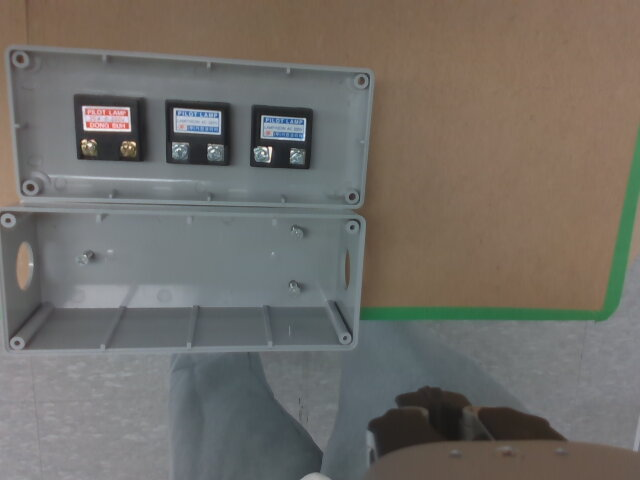L1(1): (79, 139, 96, 157)
L1(2): (119, 140, 136, 157)
L2(1): (171, 142, 189, 160)
L2(2): (206, 143, 223, 161)
L3(1): (255, 146, 272, 162)
L3(2): (290, 148, 306, 164)
